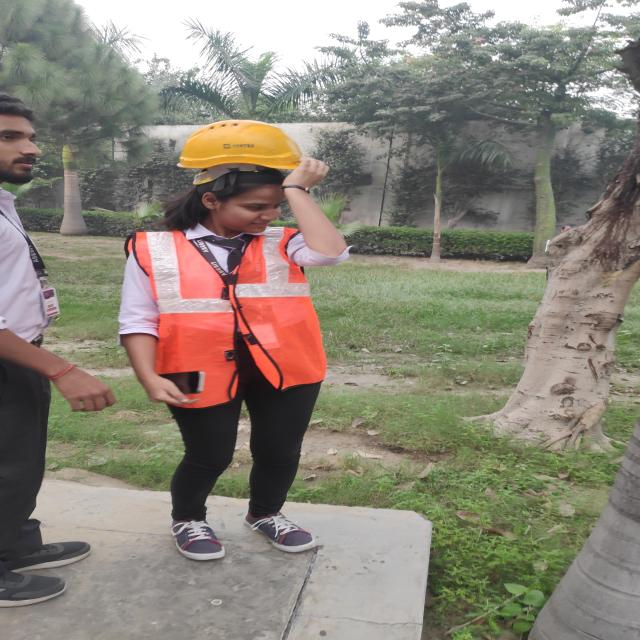safe: (121, 119, 349, 563)
unsafe: (0, 97, 118, 582)
